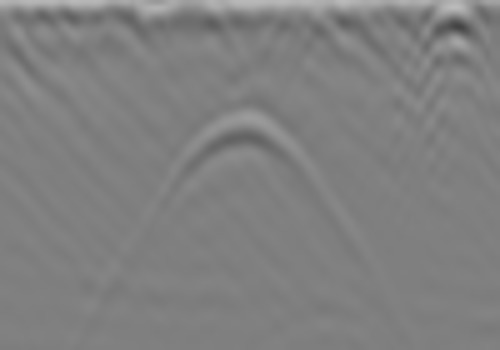hyperbola: (127, 107, 355, 230)
